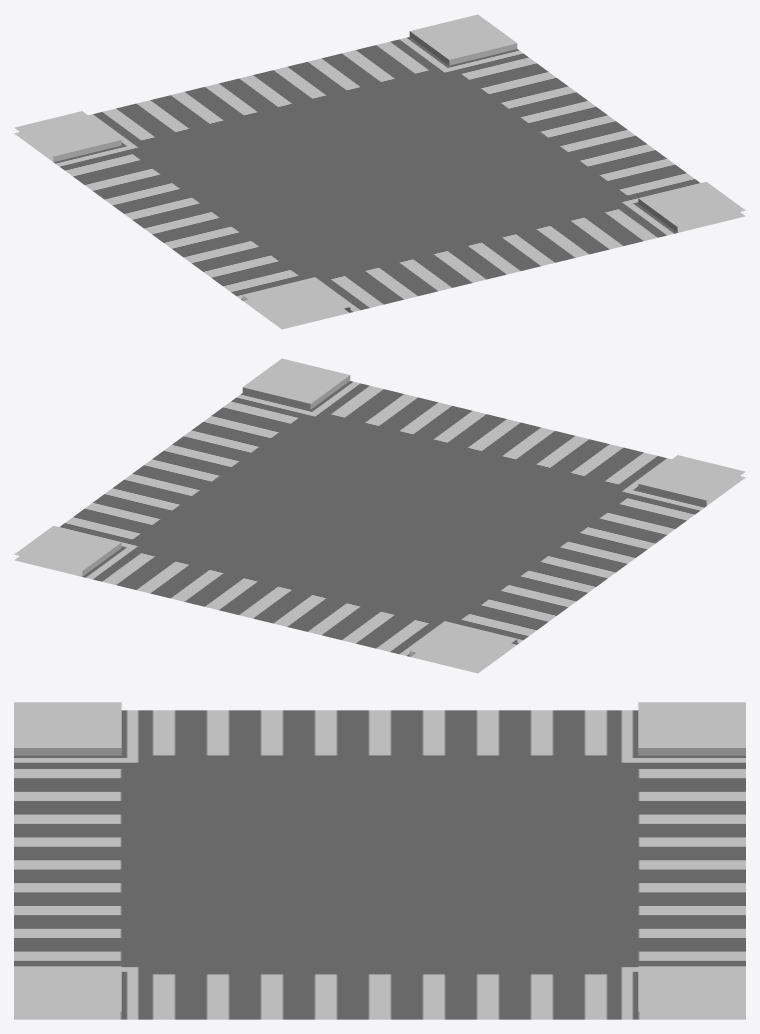
The model's file is Small Intersection.fbx.
3 renders of one model, top to bottom at view 1: azimuth 30°, elevation 25°; view 2: azimuth 150°, elevation 25°; view 3: azimuth 270°, elevation 25°, orthographic. The views are drawn at different scales.
Parts seen in each view (by area): view 1: Small Intersection; view 2: Small Intersection; view 3: Small Intersection.
Boxes of the visible parts, x1,y1,x2,y2 form: Small Intersection: [14, 14, 745, 329]; Small Intersection: [14, 358, 745, 673]; Small Intersection: [14, 702, 745, 1019].
Bounding box in the file's own units: 1700 × 20 × 1700.
